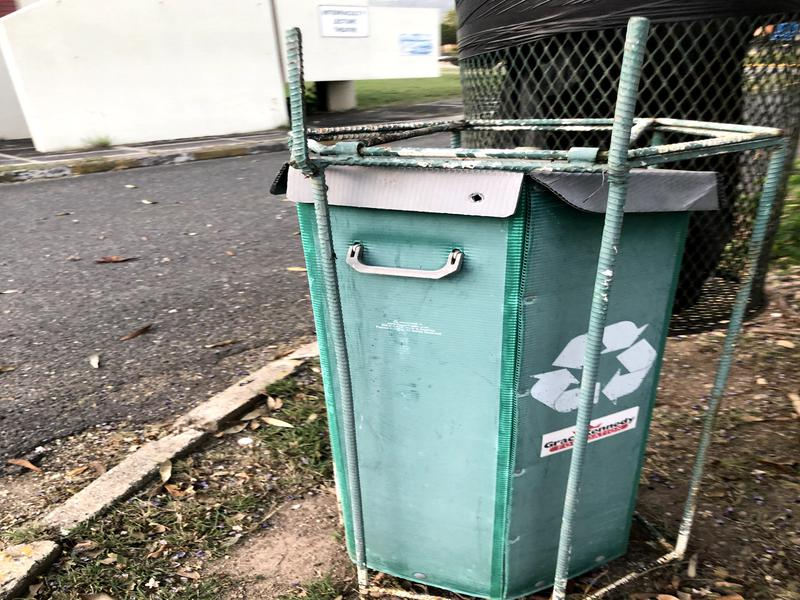18.0053245_-76.7486424_recyclebin: (256, 103, 745, 600)
